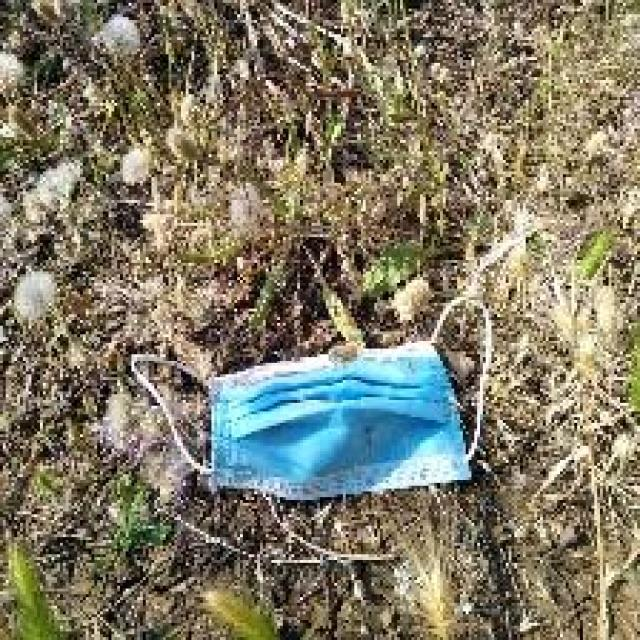Mask: (118, 329, 526, 524)
